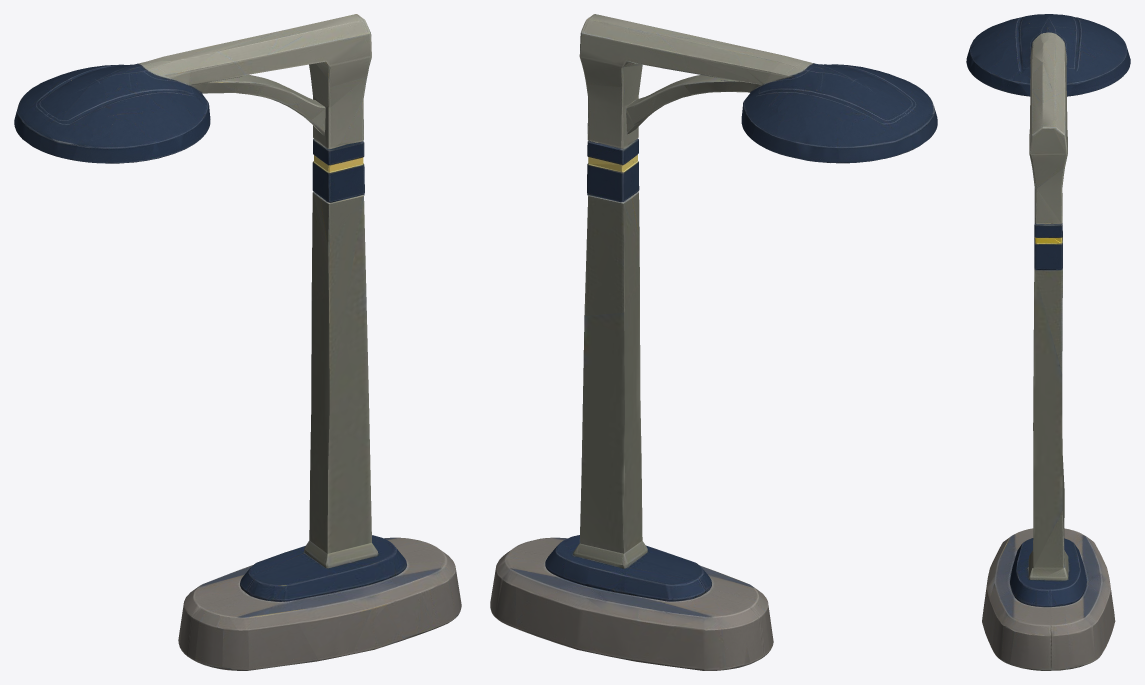
File: angular-common-infrastructure-street-lamp-column-civic-normal.glb
The picture shows the model from 3 angles, left to right: view 1: azimuth 30°, elevation 25°; view 2: azimuth 150°, elevation 25°; view 3: azimuth 270°, elevation 25°; orthographic projection. The views are drawn at different scales.
Parts seen in each view (by area): view 1: Mesh_0; view 2: Mesh_0; view 3: Mesh_0.
Boxes of the visible parts, box(x1,y1,x2,y2) form: Mesh_0: box(14, 14, 461, 670); Mesh_0: box(490, 14, 937, 670); Mesh_0: box(966, 14, 1130, 670).
Size of the model in its own units: 1.11 by 1.5 by 0.4364.
1 material, 1 textured.
